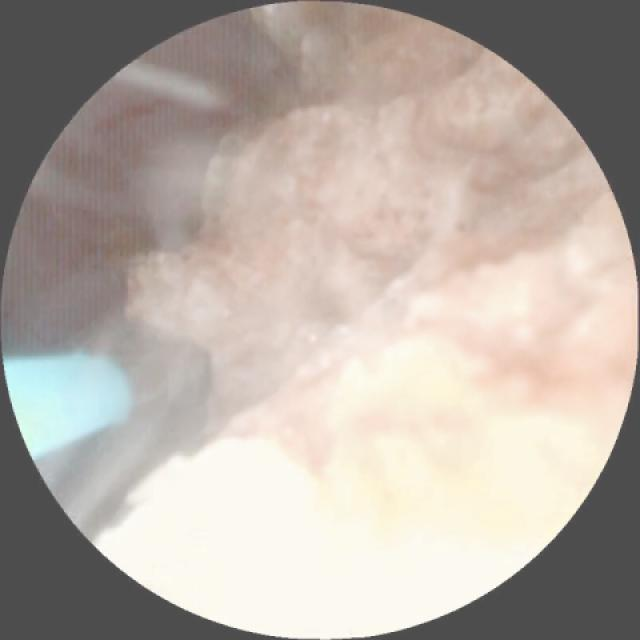fiber: (8, 357, 126, 454)
stone: (100, 8, 627, 627)
